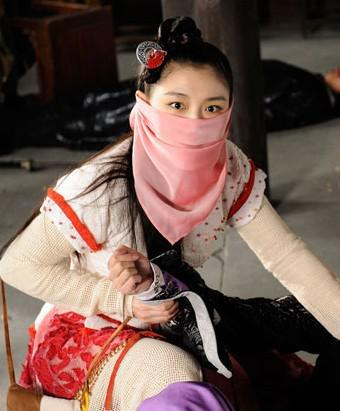OK: (141, 84, 232, 171)
